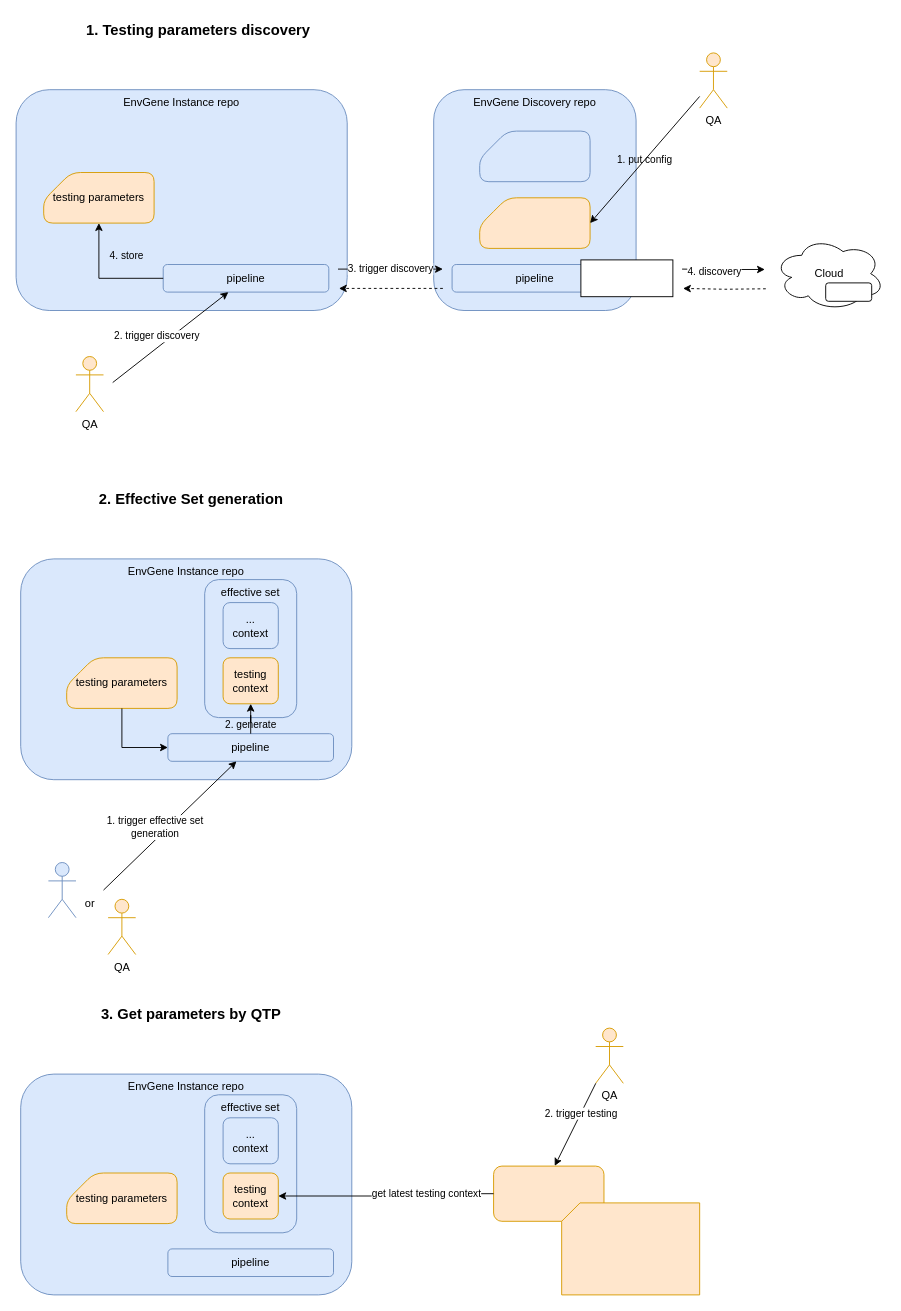
Some shapes in this 901 by 1311 pixel diagram are drawn without their labels. Each missing label, with the centre of its shape:
"Cloud Passport discovery config" goes at point (534, 156).
"Customer team" goes at point (61, 890).
"DBaaS" goes at point (848, 291).
"inventory envgene_repo_url: envgene_repo_branch: envgene_repo_token:" goes at point (630, 1248).
"QTP" goes at point (548, 1193).
"testing parameters discovery CLI" goes at point (626, 278).
"testing parameters discovery config" goes at point (534, 222).
